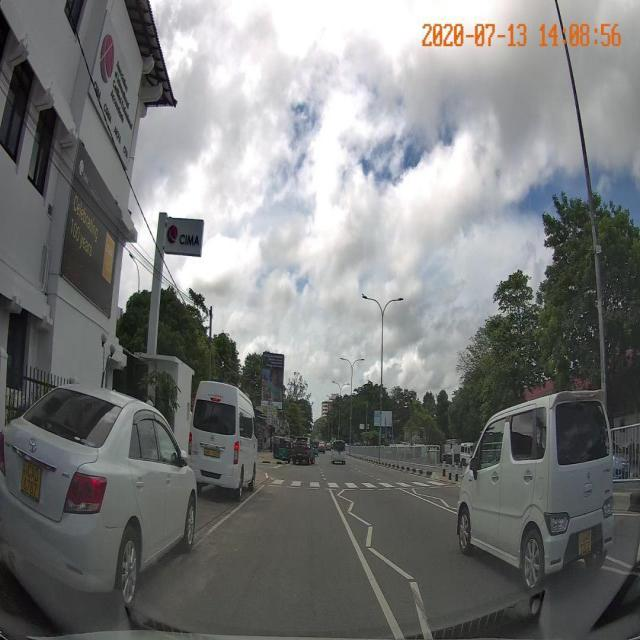Liniya 1: (328, 490, 405, 639), (194, 485, 265, 547), (366, 546, 415, 580), (400, 490, 457, 516), (410, 581, 433, 640), (602, 565, 639, 577), (606, 554, 634, 569), (347, 512, 374, 526), (365, 525, 373, 547), (417, 493, 441, 500), (336, 495, 354, 503), (613, 512, 639, 517), (438, 498, 450, 507), (347, 502, 354, 512), (336, 490, 345, 495), (411, 487, 416, 495)
Perehod: (271, 479, 450, 488)
